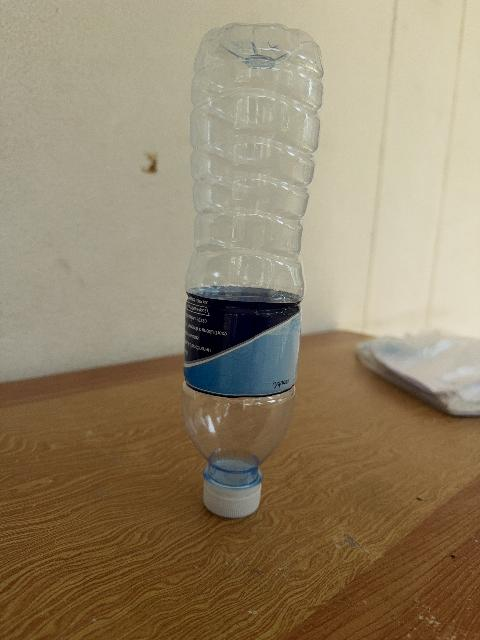bottle: (182, 24, 321, 517)
